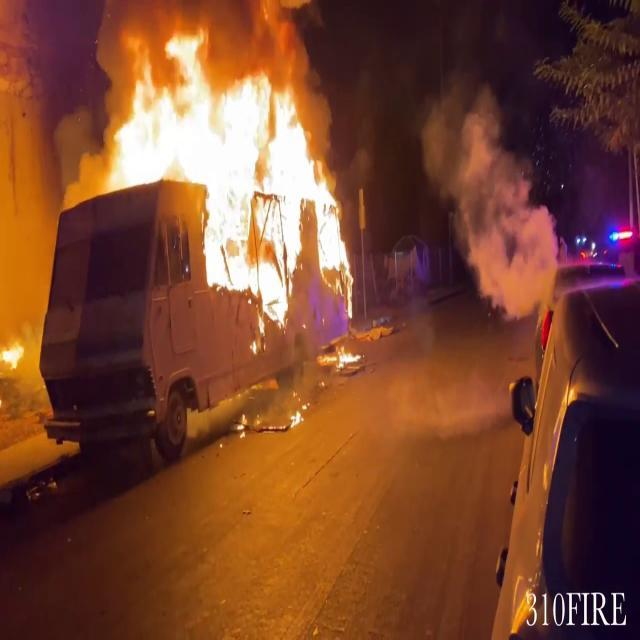Fire: (79, 12, 358, 304)
Smoke: (420, 54, 561, 325)
